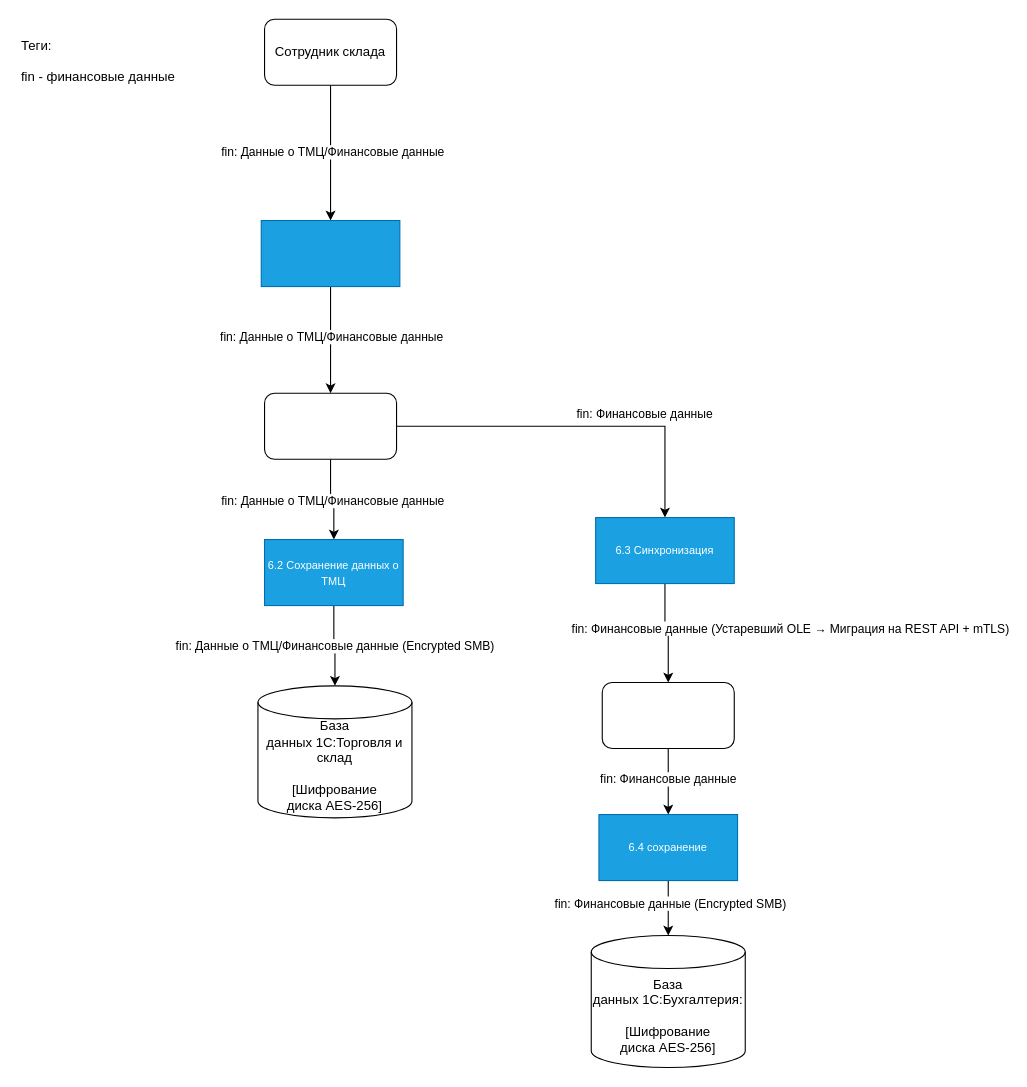
Image size: 1027x1087. Some labels were removed from this diagram. The centre of each missing label's shape, as x and y in pixels:
1С:Бухгалтерия:: (x=667, y=715)
1С:Торговля и склад: (x=330, y=425)
6.1 Изменение/внесение данных о ТМЦ: (x=330, y=253)
